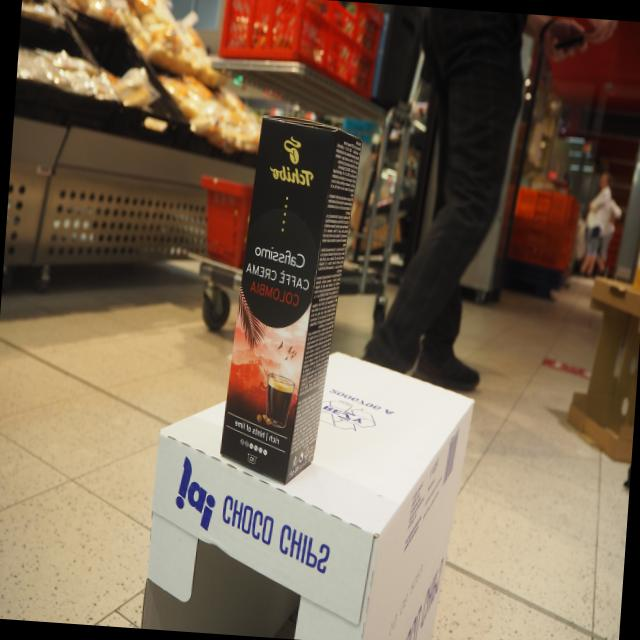Simo CC Colombia: (212, 111, 365, 502)
